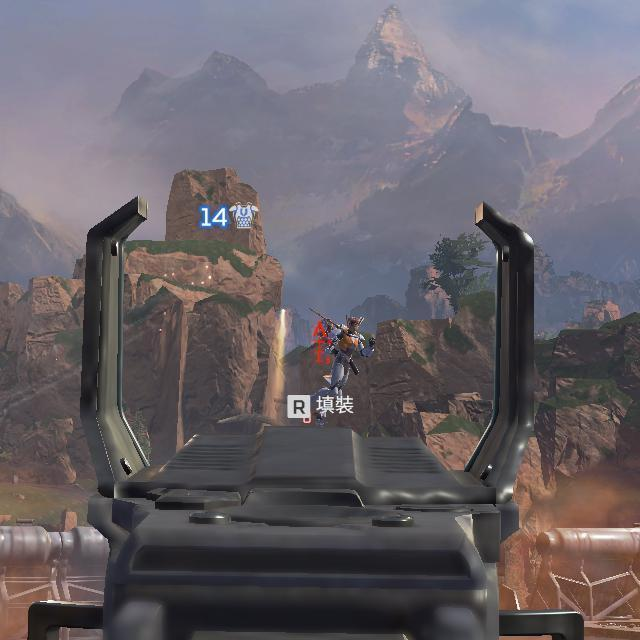avatar: (325, 313, 367, 394)
